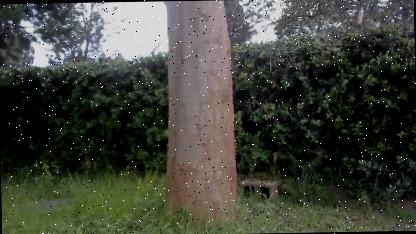tree: (156, 0, 246, 234)
